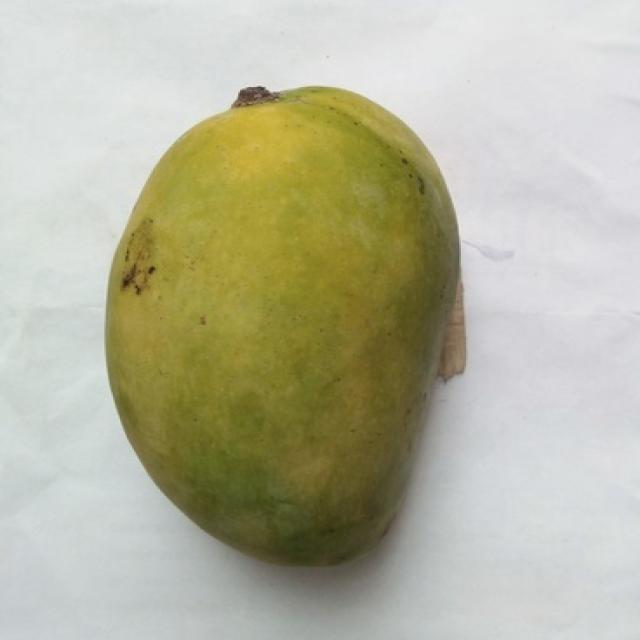Mango: (106, 90, 464, 564)
